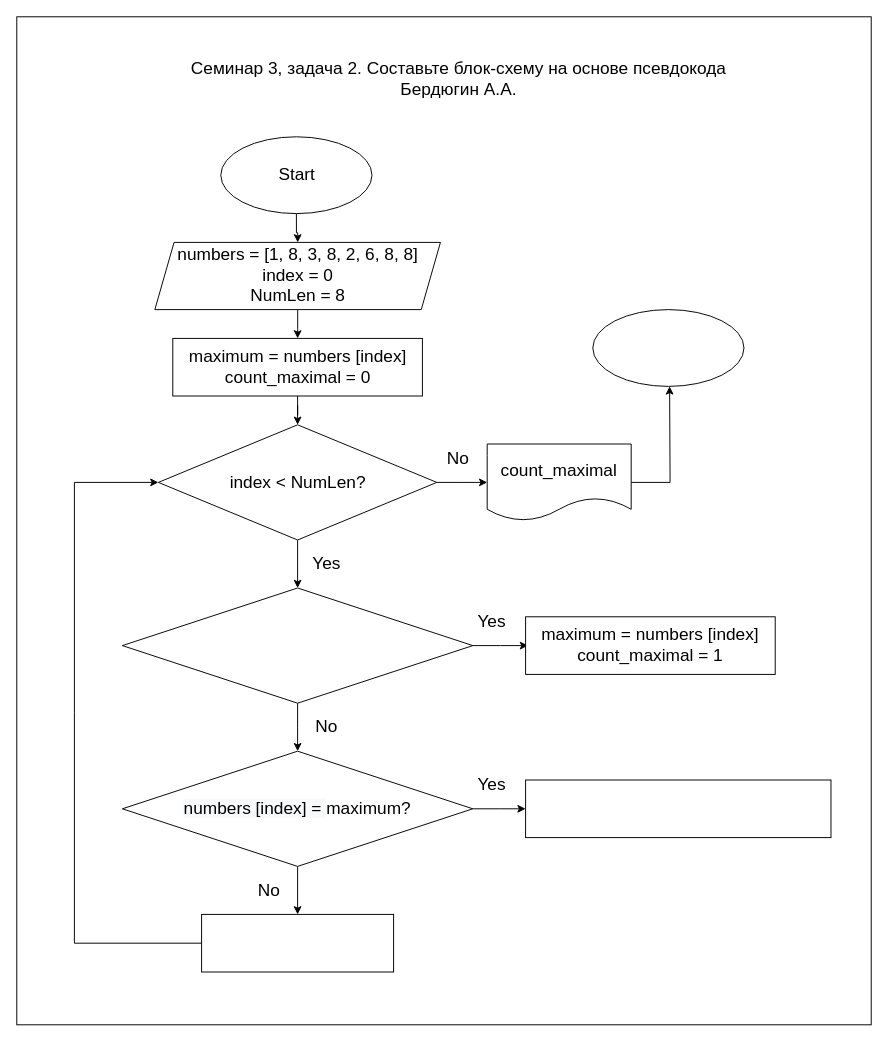
Some shapes in this 888 by 1042 pixel diagram are drawn without their labels. Each missing label, with the centre of its shape:
"count_maximal = count_maximal + 1" belongs at (x=678, y=808).
"End" belongs at (x=668, y=347).
"Index = Index + 1" belongs at (x=297, y=942).
"numbers [index] > maximum?" belongs at (x=297, y=645).
